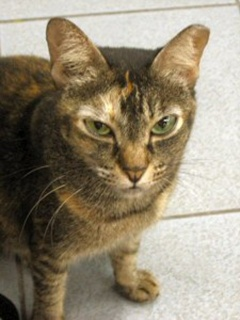Cat: (0, 15, 210, 320)
